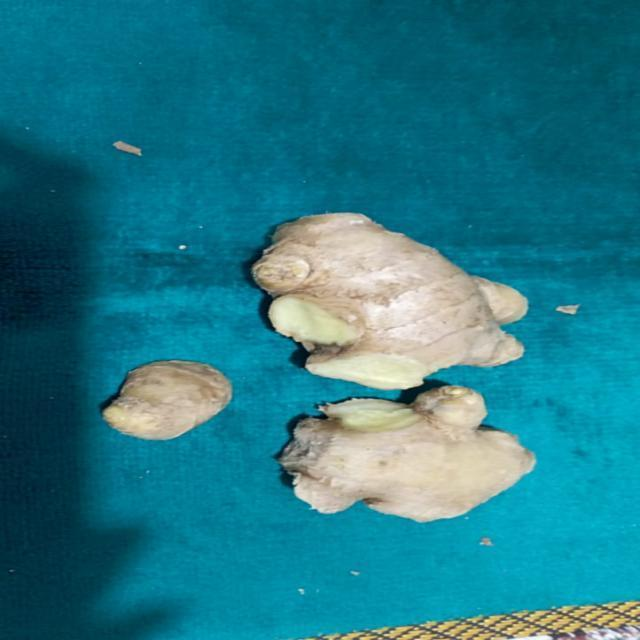ginger: (260, 220, 538, 393), (298, 399, 556, 524)
